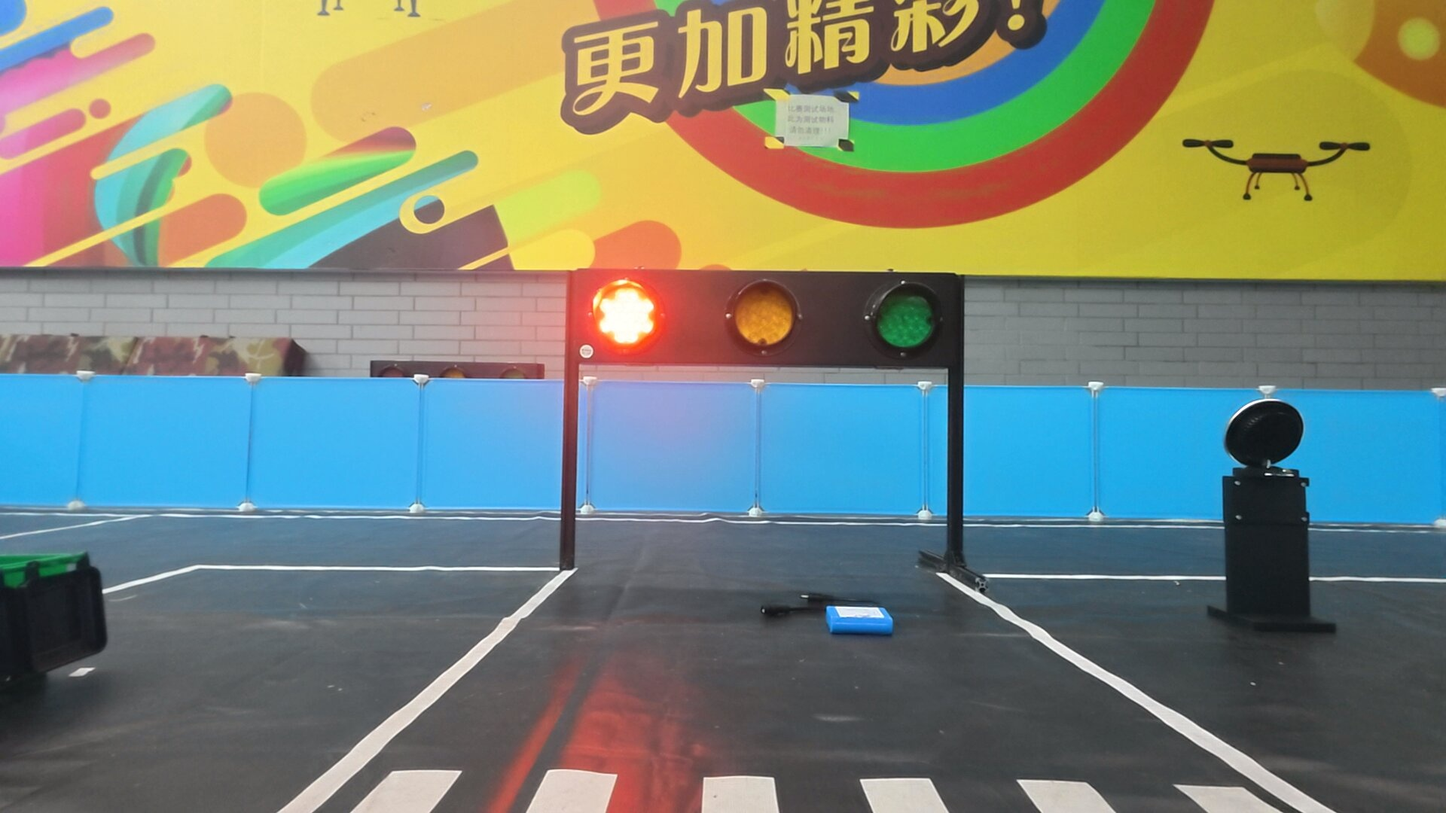stop: (587, 274, 663, 353)
